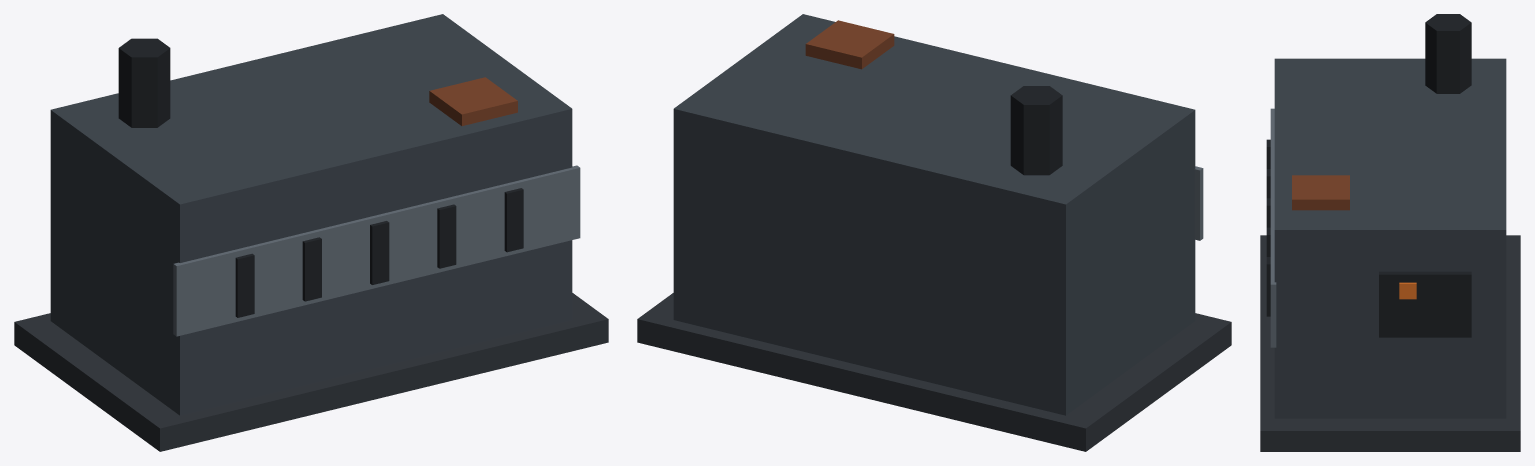
File: prop_generator.fbx
The picture shows the model from 3 angles, left to right: view 1: azimuth 30°, elevation 25°; view 2: azimuth 150°, elevation 25°; view 3: azimuth 270°, elevation 25°; orthographic projection. The views are drawn at different scales.
Visible parts, largest first — view 1: prop_generator; view 2: prop_generator; view 3: prop_generator.
Boxes of the visible parts, x1=… form: prop_generator: x1=14, y1=14, x2=608, y2=451; prop_generator: x1=637, y1=14, x2=1231, y2=451; prop_generator: x1=1260, y1=14, x2=1520, y2=451.
Bounding box in the file's own units: 800 × 520 × 450.
